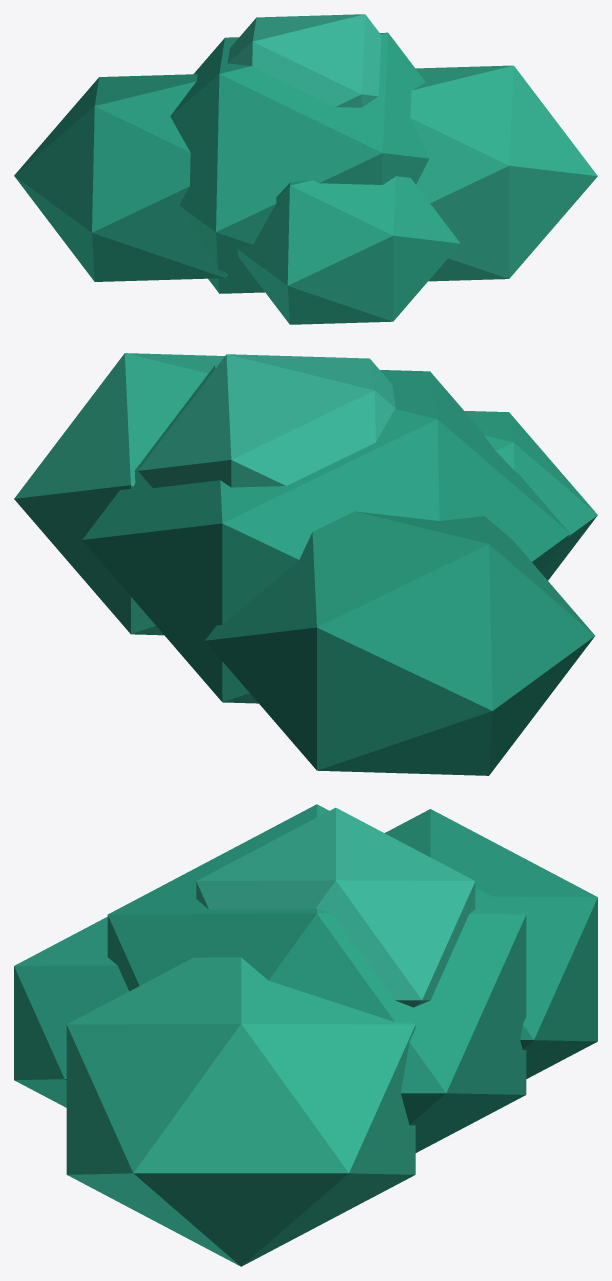
Rendered from shrub.glb.
3 renders of one model, top to bottom at view 1: azimuth 30°, elevation 25°; view 2: azimuth 150°, elevation 25°; view 3: azimuth 270°, elevation 25°, orthographic. The views are drawn at different scales.
Parts seen in each view (by area): view 1: shrub-2; view 2: shrub-2; view 3: shrub-2.
Boxes of the visible parts, x1,y1,x2,y2 form: shrub-2: (14, 14, 597, 324); shrub-2: (14, 353, 597, 775); shrub-2: (14, 804, 597, 1266).
Size of the model in its own units: 2.1 by 1.1 by 1.85.
